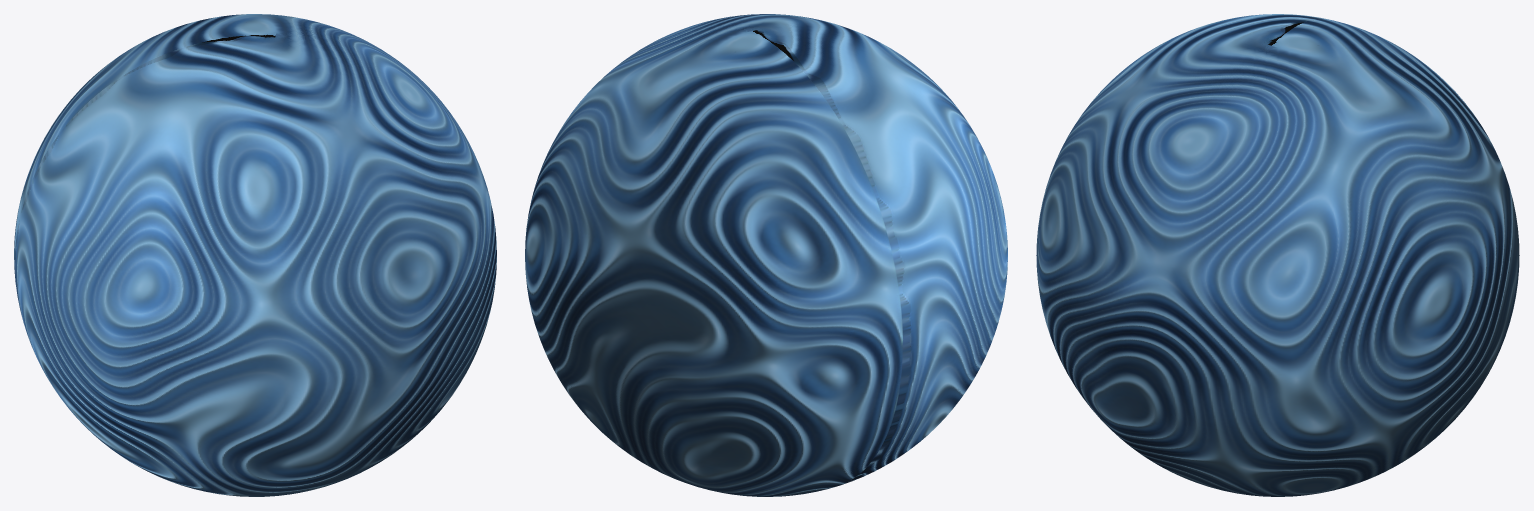
3 views of the same model, side by side, from view 1: azimuth 30°, elevation 25°; view 2: azimuth 150°, elevation 25°; view 3: azimuth 270°, elevation 25° (orthographic).
Visible parts, largest first — view 1: Icosphere.001; view 2: Icosphere.001; view 3: Icosphere.001.
Boxes of the visible parts, <box> form: Icosphere.001: <box>14,14,496,496</box>; Icosphere.001: <box>525,14,1007,496</box>; Icosphere.001: <box>1036,14,1519,496</box>.
Bounding box in the file's own units: 2 × 2 × 2.
1 material, 1 textured.
